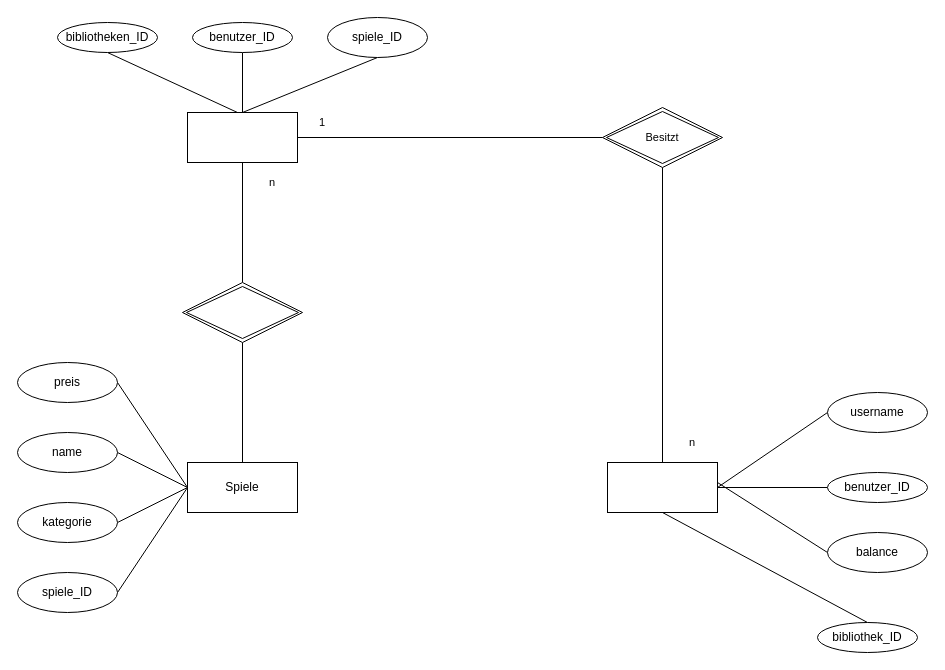
This 945x670 diagram has some shape labels left out. The centre of each missing label's shape, as x and y in pixels:
Benutzer: the point at 662,487
Bibliotheken: the point at 242,137
Enthält: the point at 242,312
